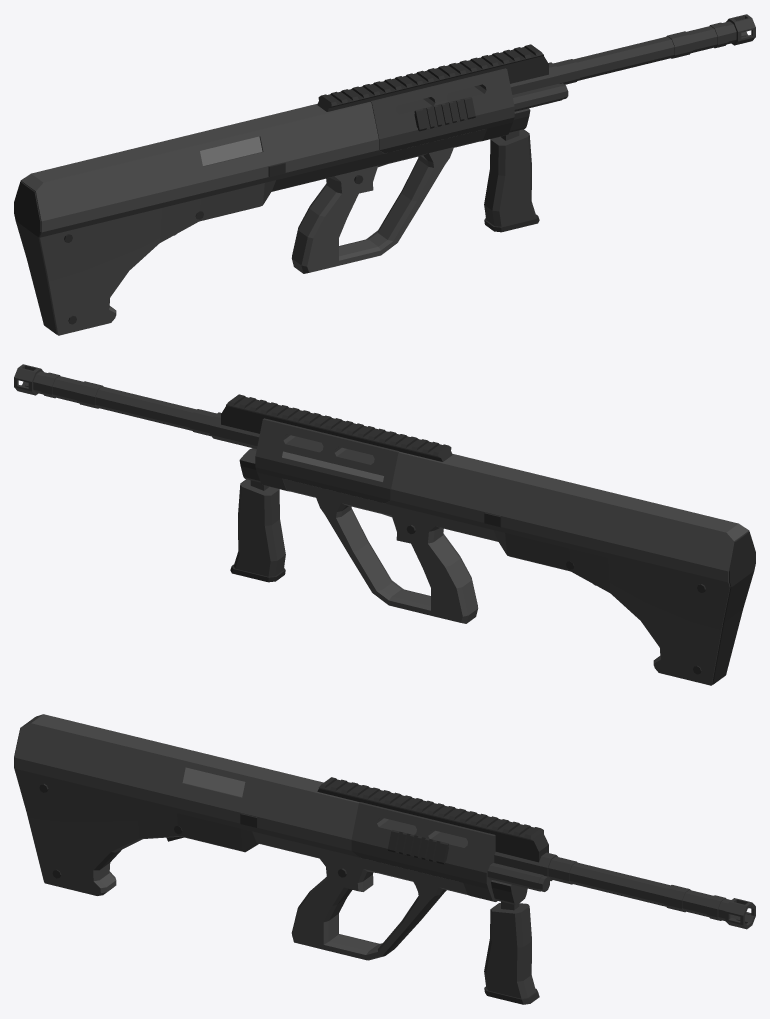
Rendered from AssaultRifle2_03.fbx.
3 renders of one model, top to bottom at view 1: azimuth 30°, elevation 25°; view 2: azimuth 150°, elevation 25°; view 3: azimuth 330°, elevation 25°, orthographic.
Parts seen in each view (by area): view 1: AssaultRifle2_03; view 2: AssaultRifle2_03; view 3: AssaultRifle2_03.
Part boxes in pixels (x1,y1,x2,y2): AssaultRifle2_03: [14, 14, 755, 335]; AssaultRifle2_03: [14, 364, 755, 685]; AssaultRifle2_03: [14, 714, 755, 1004].
Size of the model in its own units: 0.9551 by 0.2132 by 0.0697.
